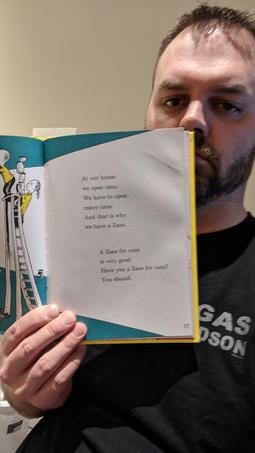text block: (74, 169, 132, 232), (94, 243, 174, 286)
